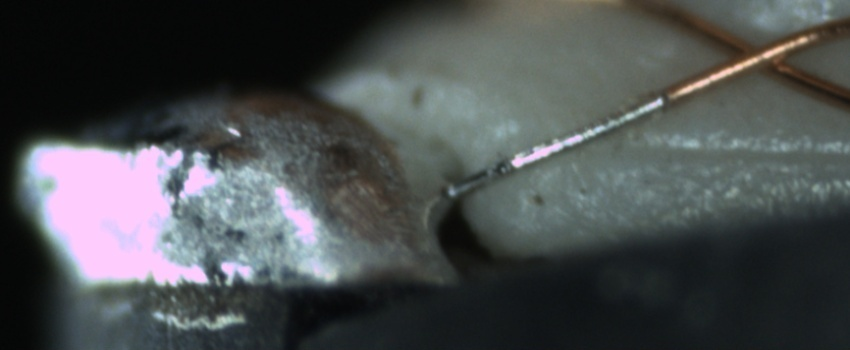CL: (705, 24, 812, 86)
DL: (612, 124, 849, 180)
TS: (438, 93, 651, 202)
